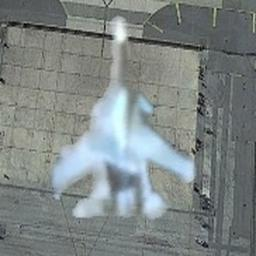Airplane: (45, 10, 202, 226)
